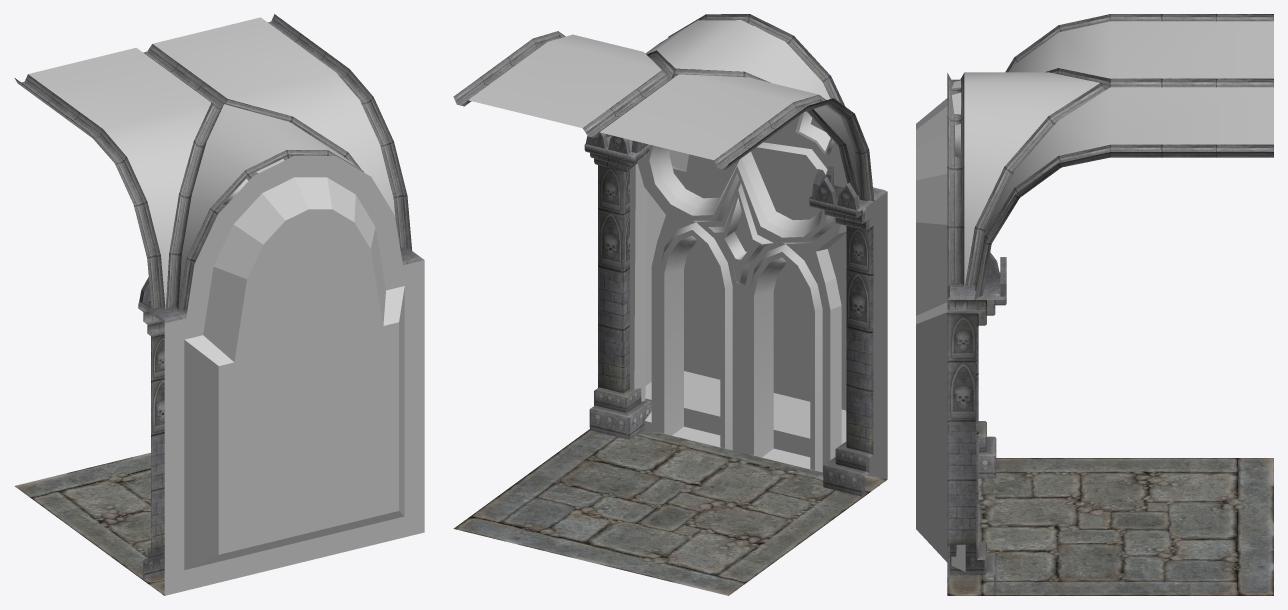
File: Wall_Ornament2.FBX
3 renders of one model, left to right at view 1: azimuth 30°, elevation 25°; view 2: azimuth 150°, elevation 25°; view 3: azimuth 270°, elevation 25°, orthographic. The views are drawn at different scales.
Visible parts, largest first — view 1: Wall Ornament 2; view 2: Wall Ornament 2; view 3: Wall Ornament 2.
Boxes of the visible parts, x1,y1,x2,y2 form: Wall Ornament 2: (14,14,424,595); Wall Ornament 2: (453,14,887,595); Wall Ornament 2: (916,14,1273,595).
Size of the model in its own units: 500 by 750 by 548.
